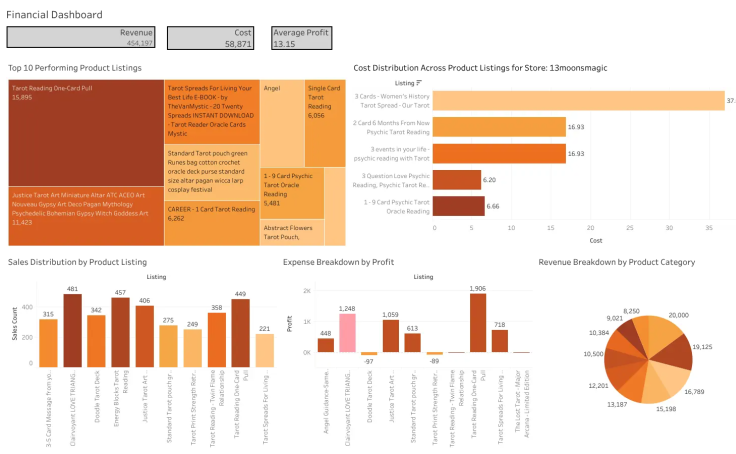

The page's visual inventory and layout, read from the dashboard file:
{"tool":"tableau","page":{"name":"Dashboard 1","canvas":[1600,800],"ordinal":0},"visuals":[{"type":"title","box":[8,8,1584,40]},{"type":"worksheet","title":"Sheet 6","mark":"Automatic","box":[8,48,357,63.6]},{"type":"worksheet","title":"Sheet 5","mark":"Text","box":[365,48,1227,63.6]},{"type":"worksheet","title":"Sheet 3","mark":"Circle","box":[8,111.6,631,353.2]},{"type":"worksheet","title":"Sheet 2","mark":"Automatic","box":[639,111.6,823,353.2]},{"type":"legend","title":"Sheet 1","param":"[federated.1a23t400bw1kd4115lrkc0k2cz3f].[avg:Calculation_1123085176253964288:qk","box":[1462,111.6,130,73]},{"type":"legend","title":"Sheet 3","param":"[federated.1a23t400bw1kd4115lrkc0k2cz3f].[sum:sales_count:qk]","box":[1462,184.6,130,73]},{"type":"legend","title":"Sheet 2","param":"[federated.1a23t400bw1kd4115lrkc0k2cz3f].[sum:sales_count:ok]","box":[1462,257.6,130,135]},{"type":"legend","title":"Sheet 4","param":"[federated.1a23t400bw1kd4115lrkc0k2cz3f].[none:store:nk]","box":[1462,392.6,130,156]},{"type":"worksheet","title":"Sheet 1","mark":"Automatic","rows":["store"],"cols":["Calculation_1123085176253964288"],"box":[8,464.8,975,327.2]},{"type":"worksheet","title":"Sheet 4","mark":"Pie","box":[983,464.8,479,327.2]}]}

Visuals, with their boxes on the page's 1600x800 design canvas (x1, y1, x2, y2). These are canvas units, not pixel positions in the 736x454 screenshot, which may show the page scaled, cropped or inside an application window:
title: {"x1": 8, "y1": 8, "x2": 1592, "y2": 48}
"Sheet 6" worksheet: {"x1": 8, "y1": 48, "x2": 365, "y2": 112}
"Sheet 5" worksheet (Text marks): {"x1": 365, "y1": 48, "x2": 1592, "y2": 112}
"Sheet 3" worksheet (Circle marks): {"x1": 8, "y1": 112, "x2": 639, "y2": 465}
"Sheet 2" worksheet: {"x1": 639, "y1": 112, "x2": 1462, "y2": 465}
"Sheet 1" legend: {"x1": 1462, "y1": 112, "x2": 1592, "y2": 185}
"Sheet 3" legend: {"x1": 1462, "y1": 185, "x2": 1592, "y2": 258}
"Sheet 2" legend: {"x1": 1462, "y1": 258, "x2": 1592, "y2": 393}
"Sheet 4" legend: {"x1": 1462, "y1": 393, "x2": 1592, "y2": 549}
"Sheet 1" worksheet: {"x1": 8, "y1": 465, "x2": 983, "y2": 792}
"Sheet 4" worksheet (Pie marks): {"x1": 983, "y1": 465, "x2": 1462, "y2": 792}
